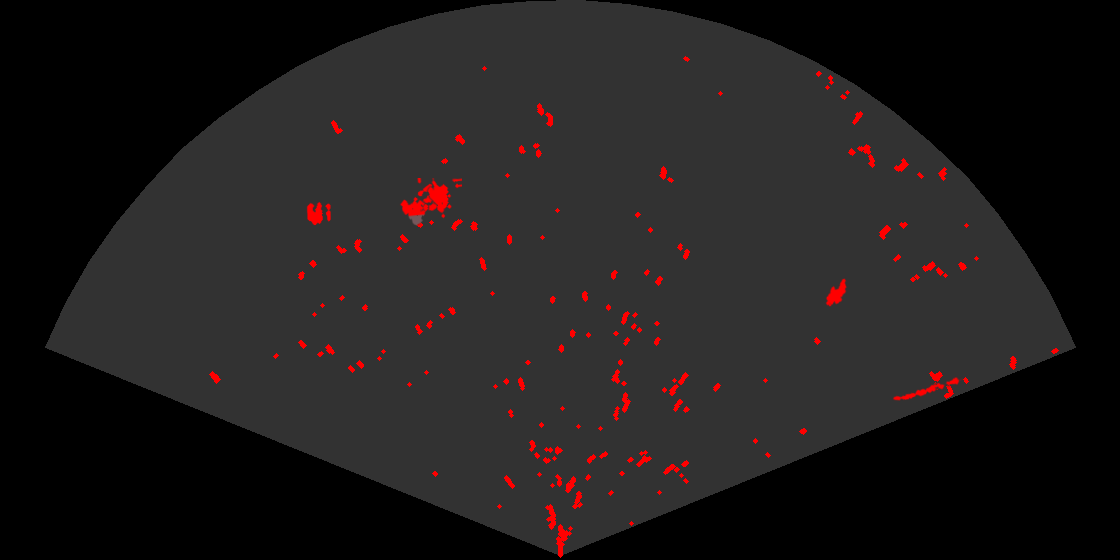AUV: (824, 277, 848, 308)
ball: (416, 182, 446, 213), (305, 200, 332, 227)
cage: (398, 178, 462, 227)
chain: (891, 375, 963, 402)
